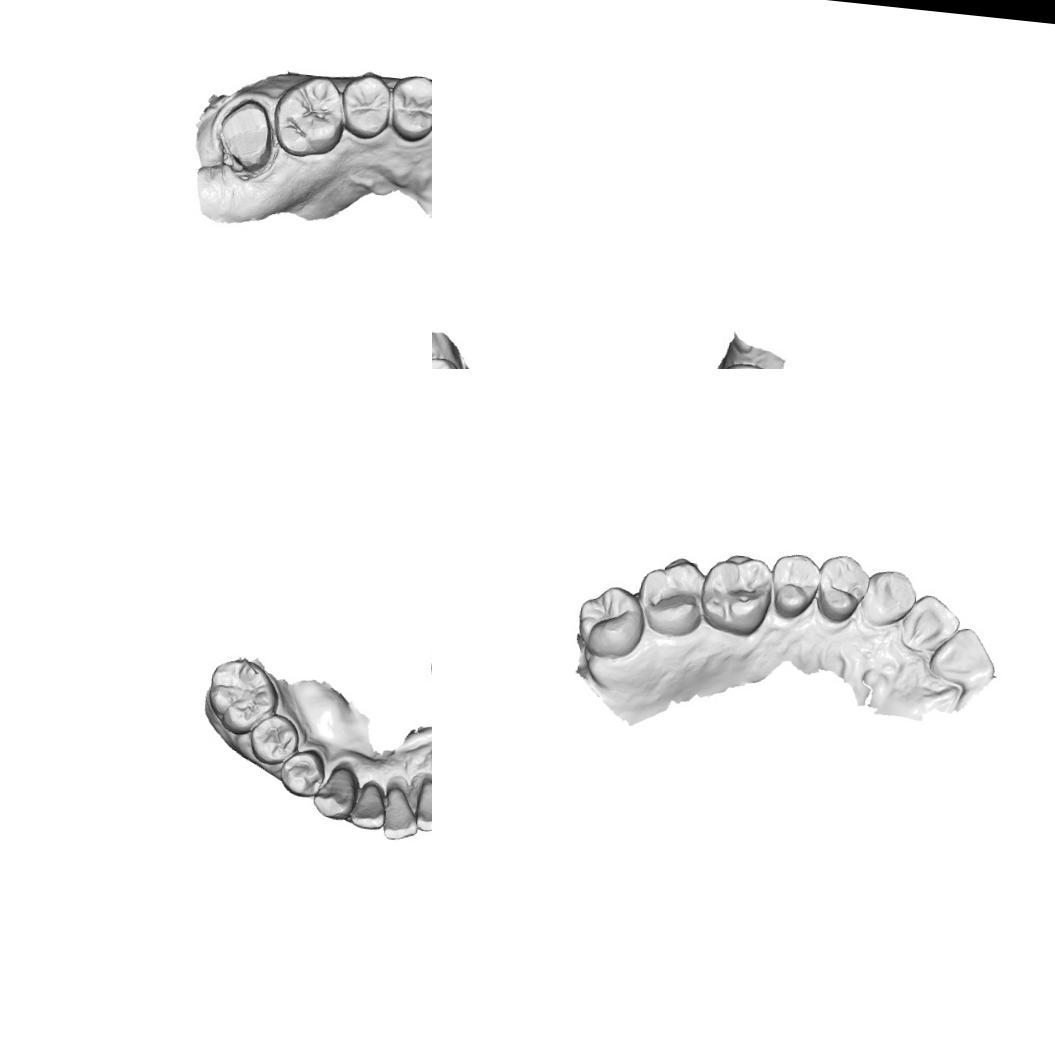canine: (859, 565, 921, 632), (310, 761, 360, 822)
crown: (213, 95, 284, 183)
incisor: (926, 622, 1000, 690), (898, 590, 963, 658), (379, 782, 423, 844), (347, 777, 392, 833), (412, 775, 432, 834)
molar: (695, 548, 777, 640), (269, 71, 350, 163), (632, 550, 712, 642), (202, 655, 284, 740), (572, 581, 650, 664)
premolar: (813, 551, 873, 626), (766, 549, 823, 623), (338, 70, 395, 140), (246, 709, 306, 767), (386, 72, 432, 145), (276, 745, 330, 800)
